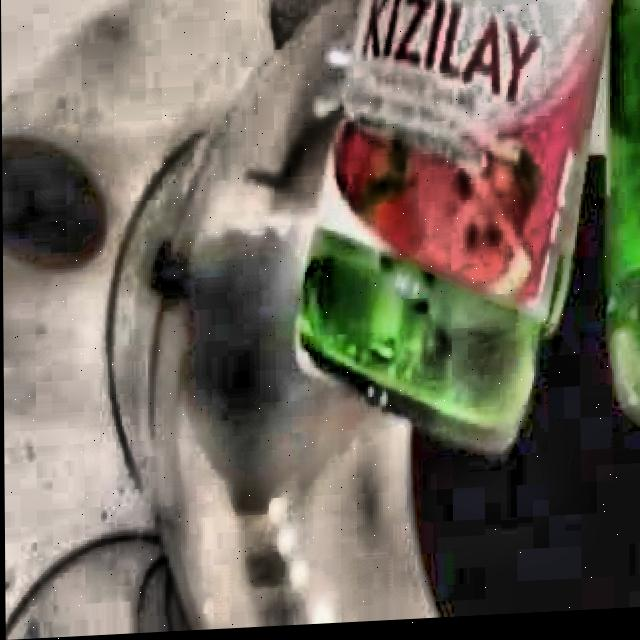glass: (296, 0, 611, 455)
